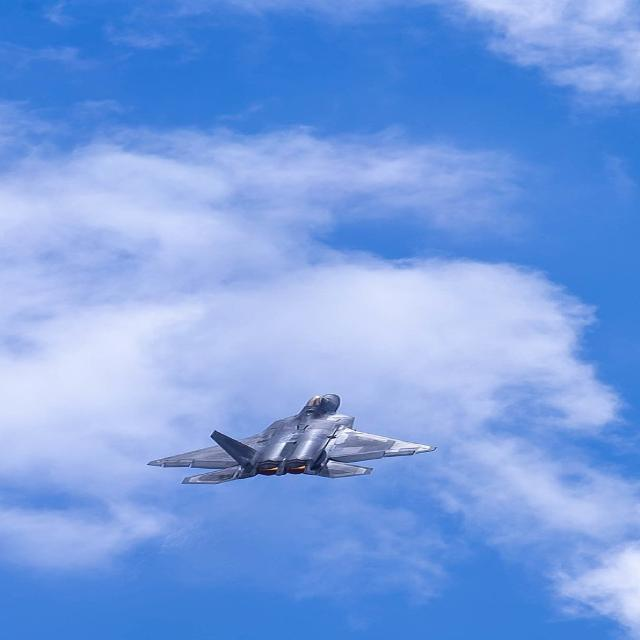MIL_Plane: (146, 393, 438, 485)
